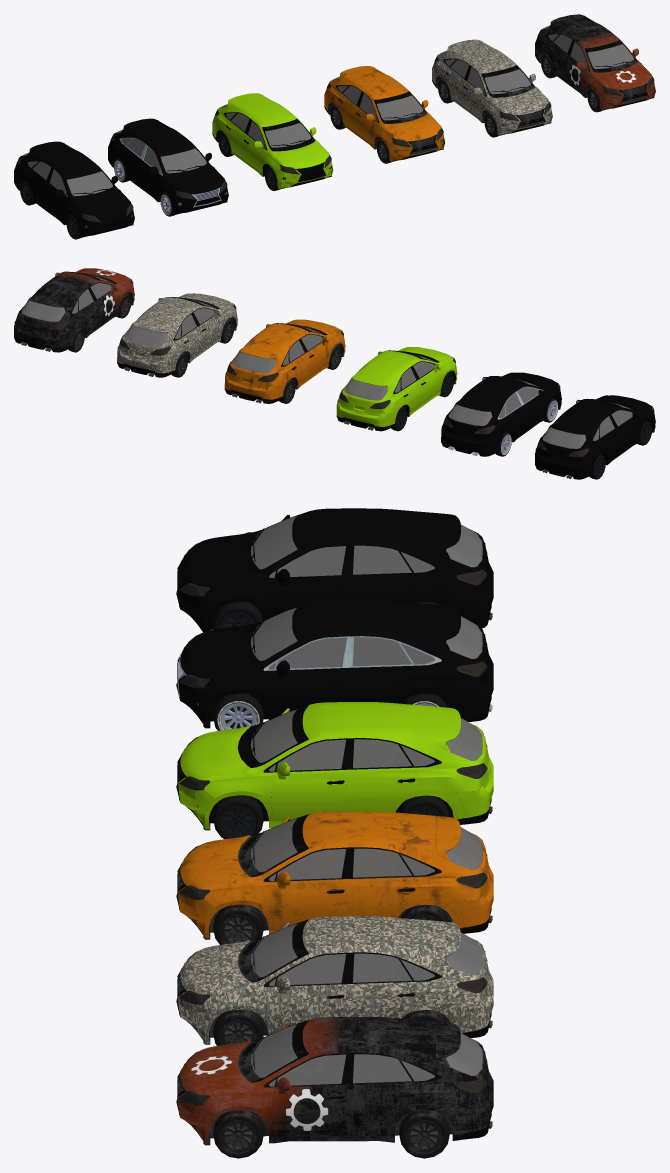
File: low_poly_vehicle_mini_pack_5.glb
3 views of the same model, one above another, from view 1: azimuth 30°, elevation 25°; view 2: azimuth 150°, elevation 25°; view 3: azimuth 270°, elevation 25° (orthographic). The views are drawn at different scales.
Parts seen in each view (by area): view 1: modern_suv.050_low.002, modern_suv.050_low, modern_suv.050_low.005, modern_suv.050_low.001, modern_suv.050_low.003, modern_suv.050_low.004; view 2: modern_suv.050_low.003, modern_suv.050_low.002, modern_suv.050_low.005, modern_suv.050_low.001, modern_suv.050_low.004, modern_suv.050_low; view 3: modern_suv.050_low.005, modern_suv.050_low.002, modern_suv.050_low.003, modern_suv.050_low.001, modern_suv.050_low.004, modern_suv.050_low, modern_suv.035_low.020, modern_suv.035_low.021, modern_suv.035_low.008, modern_suv.035_low.012, modern_suv.035_low.004, modern_suv.035_low.016 (+1 smaller).
Boxes of the visible parts, bbox=[...] form: modern_suv.050_low.002: bbox=[212, 93, 333, 189]; modern_suv.050_low: bbox=[14, 141, 134, 237]; modern_suv.050_low.005: bbox=[535, 14, 655, 110]; modern_suv.050_low.001: bbox=[108, 118, 228, 214]; modern_suv.050_low.003: bbox=[324, 66, 445, 162]; modern_suv.050_low.004: bbox=[432, 39, 552, 135]; modern_suv.050_low.003: bbox=[224, 319, 345, 403]; modern_suv.050_low.002: bbox=[336, 347, 457, 431]; modern_suv.050_low.005: bbox=[14, 268, 134, 352]; modern_suv.050_low.001: bbox=[441, 372, 561, 456]; modern_suv.050_low.004: bbox=[117, 293, 237, 377]; modern_suv.050_low: bbox=[535, 395, 655, 479]; modern_suv.050_low.005: bbox=[176, 1017, 493, 1145]; modern_suv.050_low.002: bbox=[176, 702, 493, 830]; modern_suv.050_low.003: bbox=[176, 811, 493, 939]; modern_suv.050_low.001: bbox=[176, 600, 493, 728]; modern_suv.050_low.004: bbox=[176, 916, 493, 1044]; modern_suv.050_low: bbox=[176, 508, 493, 632]; modern_suv.035_low.020: bbox=[213, 1110, 263, 1158]; modern_suv.035_low.021: bbox=[399, 1110, 449, 1158]; modern_suv.035_low.008: bbox=[213, 795, 263, 839]; modern_suv.035_low.012: bbox=[213, 904, 263, 944]; modern_suv.035_low.004: bbox=[213, 693, 263, 730]; modern_suv.035_low.016: bbox=[213, 1009, 263, 1045].
Size of the model in its own units: 19.91 by 1.68 by 4.69.
10 materials, 10 textured.
